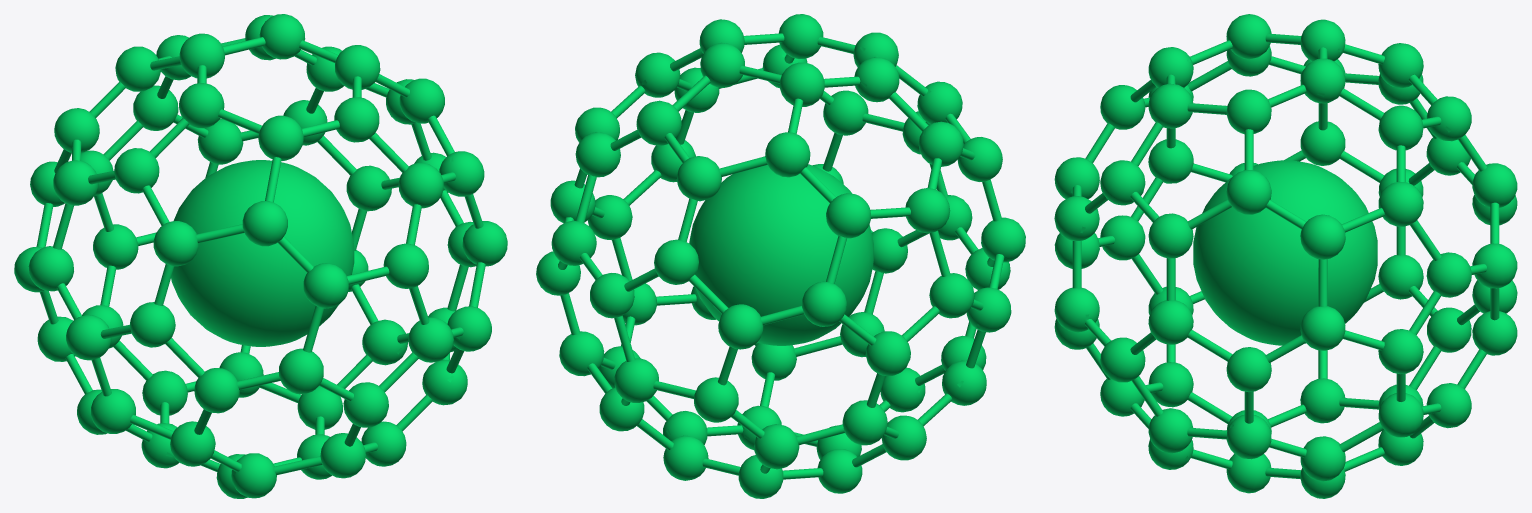
Rendered from atom2.fbx.
The picture shows the model from 3 angles, left to right: view 1: azimuth 30°, elevation 25°; view 2: azimuth 150°, elevation 25°; view 3: azimuth 270°, elevation 25°; orthographic projection.
Parts seen in each view (by area): view 1: atom_03_quads_:Cylinder_90; view 2: atom_03_quads_:Cylinder_90; view 3: atom_03_quads_:Cylinder_90.
Boxes of the visible parts, bbox=[...] form: atom_03_quads_:Cylinder_90: bbox=[14, 14, 507, 498]; atom_03_quads_:Cylinder_90: bbox=[536, 14, 1025, 498]; atom_03_quads_:Cylinder_90: bbox=[1054, 14, 1517, 498].
Bounding box in the file's own units: 212 × 209 × 204.
